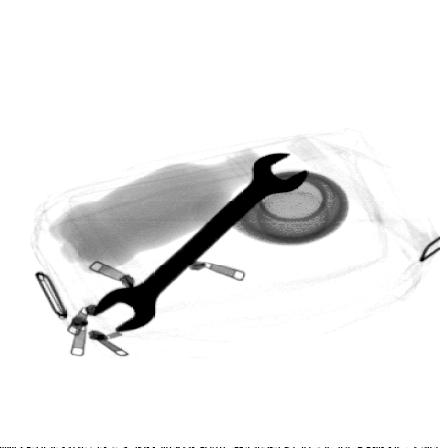Wrench: (89, 152, 310, 335)
